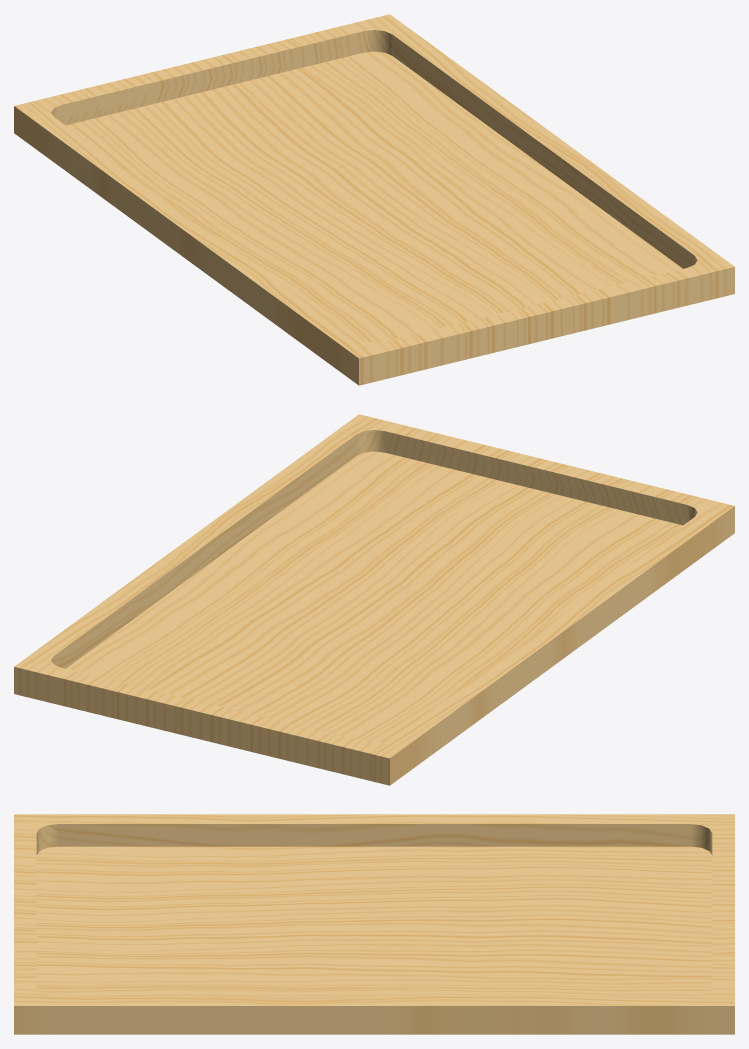
File: Table.dae
3 views of the same model, one above another, from view 1: azimuth 30°, elevation 25°; view 2: azimuth 150°, elevation 25°; view 3: azimuth 270°, elevation 25° (orthographic). The views are drawn at different scales.
Visible parts, largest first — view 1: Tabl_Mesh; view 2: Tabl_Mesh; view 3: Tabl_Mesh.
Boxes of the visible parts, <box> form: Tabl_Mesh: <box>14,14,734,385</box>; Tabl_Mesh: <box>14,414,734,785</box>; Tabl_Mesh: <box>14,814,734,1034</box>.
Bounding box in the file's own units: 26.2 × 1.81 × 41.65.
